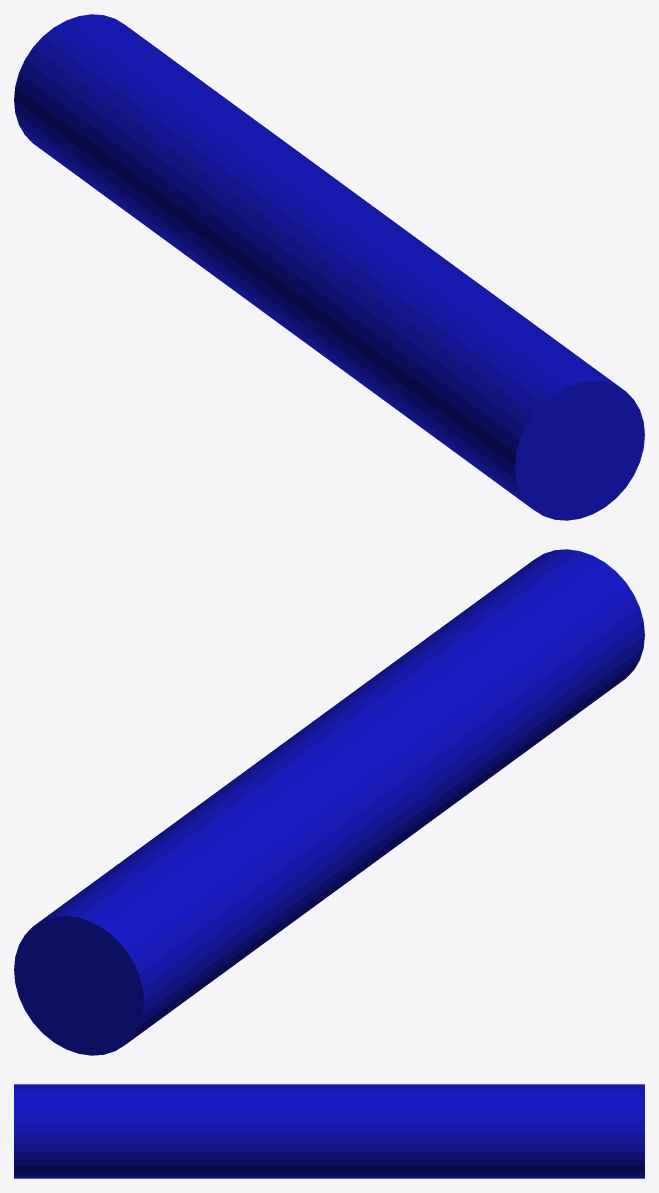
The model's file is Final Negative Sign 1.gltf.
The picture shows the model from 3 angles, top to bottom: view 1: azimuth 30°, elevation 25°; view 2: azimuth 150°, elevation 25°; view 3: azimuth 270°, elevation 25°; orthographic projection. The views are drawn at different scales.
Parts seen in each view (by area): view 1: Cylinder; view 2: Cylinder; view 3: Cylinder.
Part boxes in pixels (x1,y1,x2,y2): Cylinder: [14, 14, 644, 520]; Cylinder: [14, 549, 644, 1055]; Cylinder: [14, 1084, 644, 1178].
Bounding box in the file's own units: 0.3 × 0.3 × 2.
